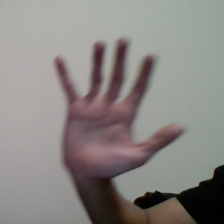left: (42, 29, 189, 186)
